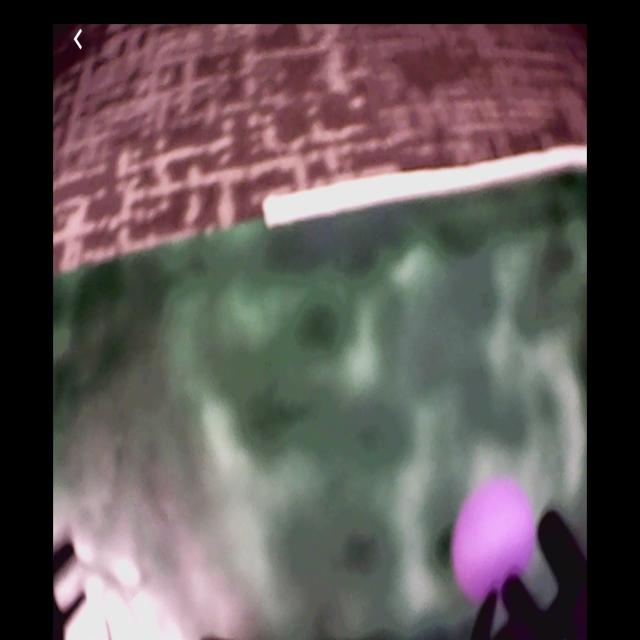ball: (453, 477, 536, 604)
